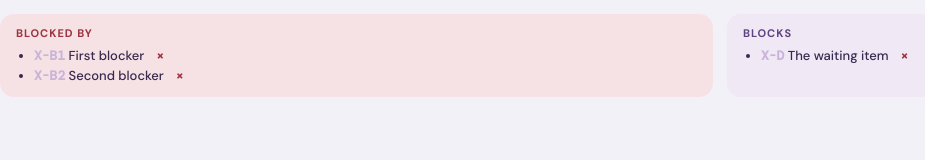
Test: a rejected remove keeps the edge listed and shows the error
This screenshot has width=925, height=160.
Click the button named "Remove dependency on X-B1" at [160, 55], box 150,46 -> 170,64
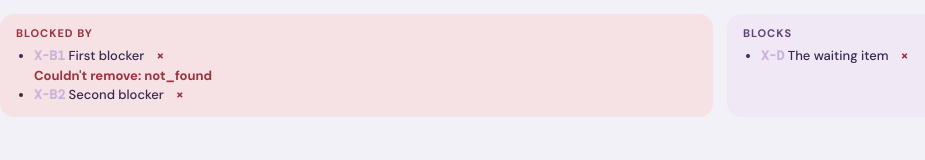
Expected: the link "X-B1" is shown, 34,47 -> 65,64
Now the message shows "not_found", box 144,66 -> 212,84
